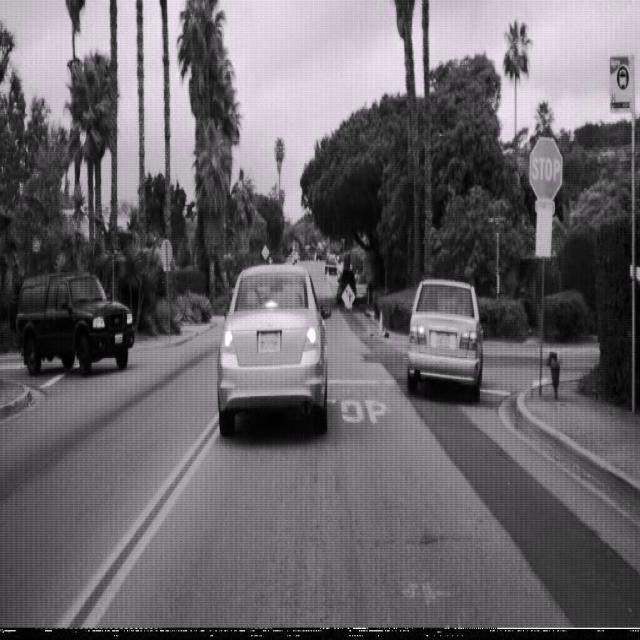stop_sign: (528, 135, 562, 202)
